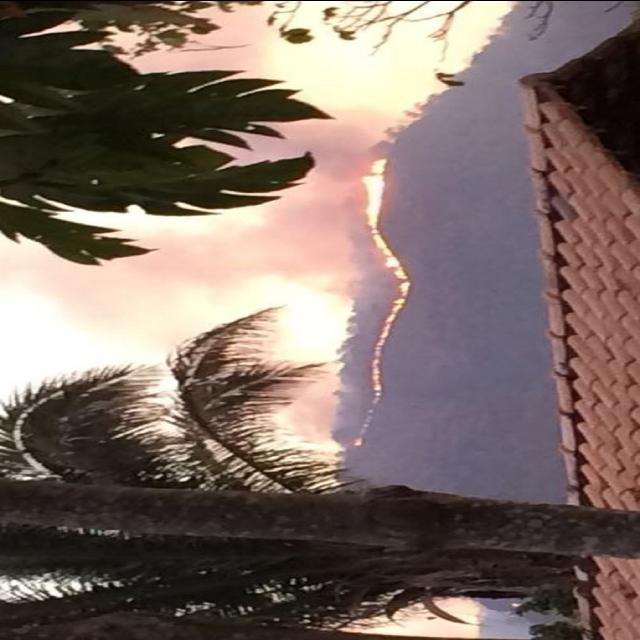Fire: (325, 152, 425, 454)
